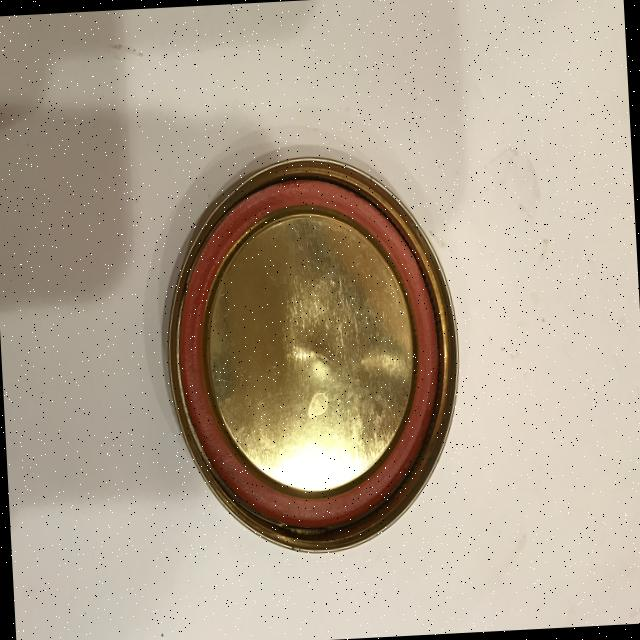metal: (158, 148, 470, 561)
